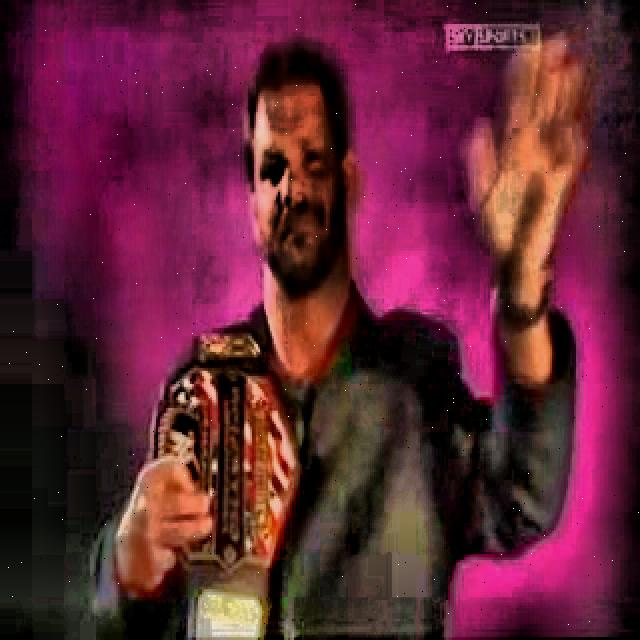L: (92, 37, 579, 638)
